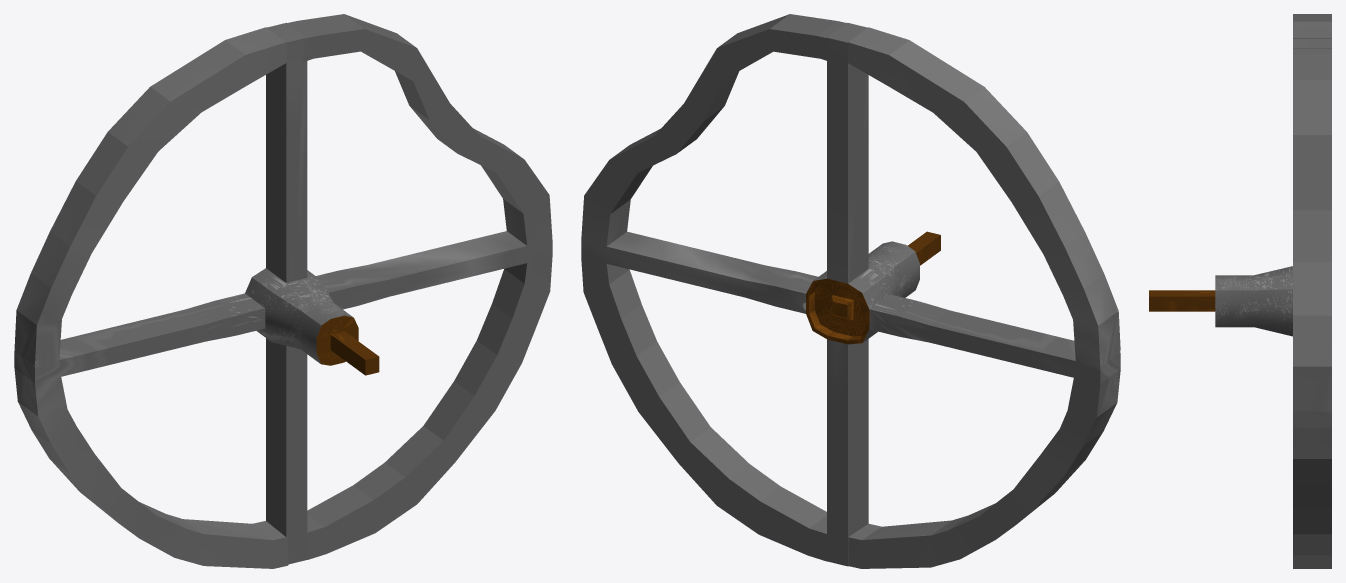
The model's file is Valve Textured.fbx.
3 renders of one model, left to right at view 1: azimuth 30°, elevation 25°; view 2: azimuth 150°, elevation 25°; view 3: azimuth 270°, elevation 25°, orthographic. The views are drawn at different scales.
Visible parts, largest first — view 1: Box001; view 2: Box001; view 3: Box001.
Part boxes in pixels (x1=…): Box001: x1=14, y1=14, x2=552, y2=568; Box001: x1=581, y1=14, x2=1120, y2=568; Box001: x1=1149, y1=14, x2=1331, y2=568.
Bounding box in the file's own units: 6.11 × 5.91 × 1.96.
Materials: 1 (1 with a texture image).
